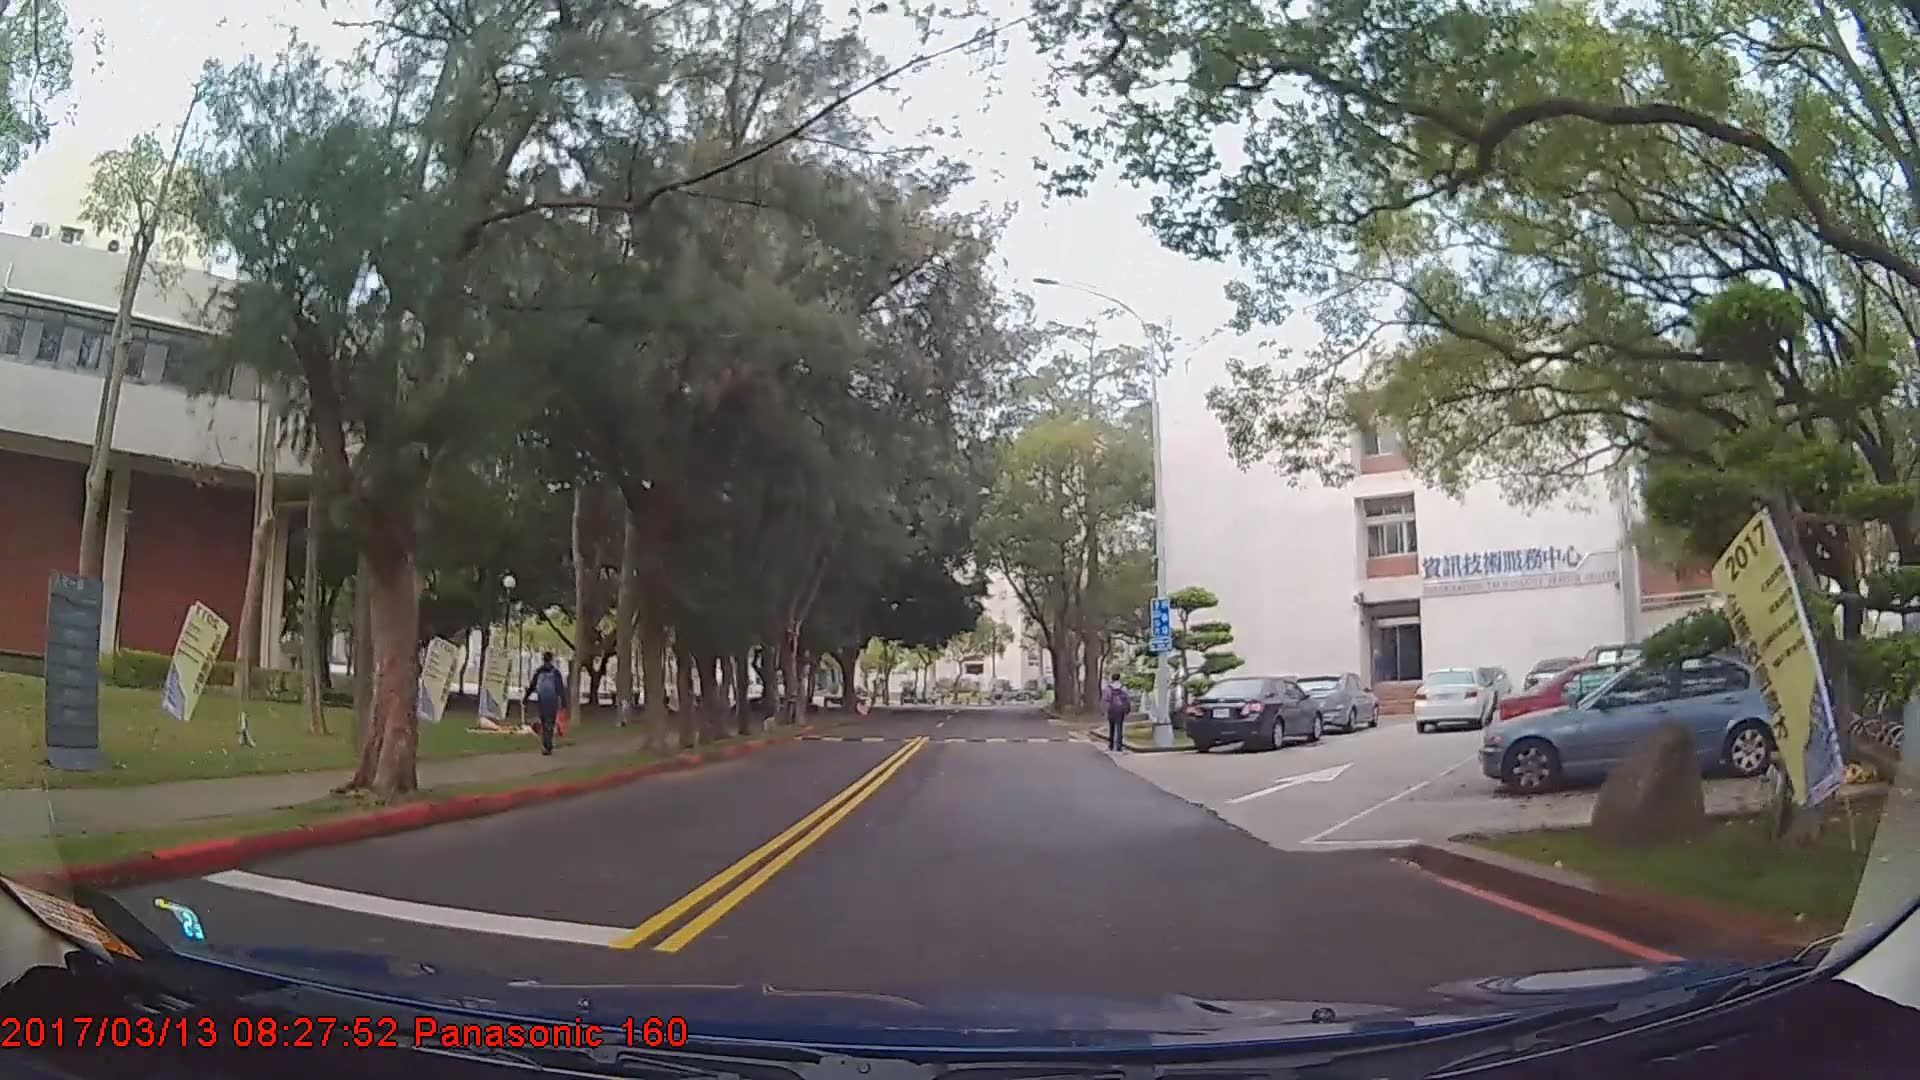pedestrian: (529, 650, 567, 758), (1102, 673, 1131, 754)
vehicle: (1480, 650, 1818, 797), (1185, 676, 1325, 756), (1409, 667, 1493, 735), (1288, 671, 1380, 733)
